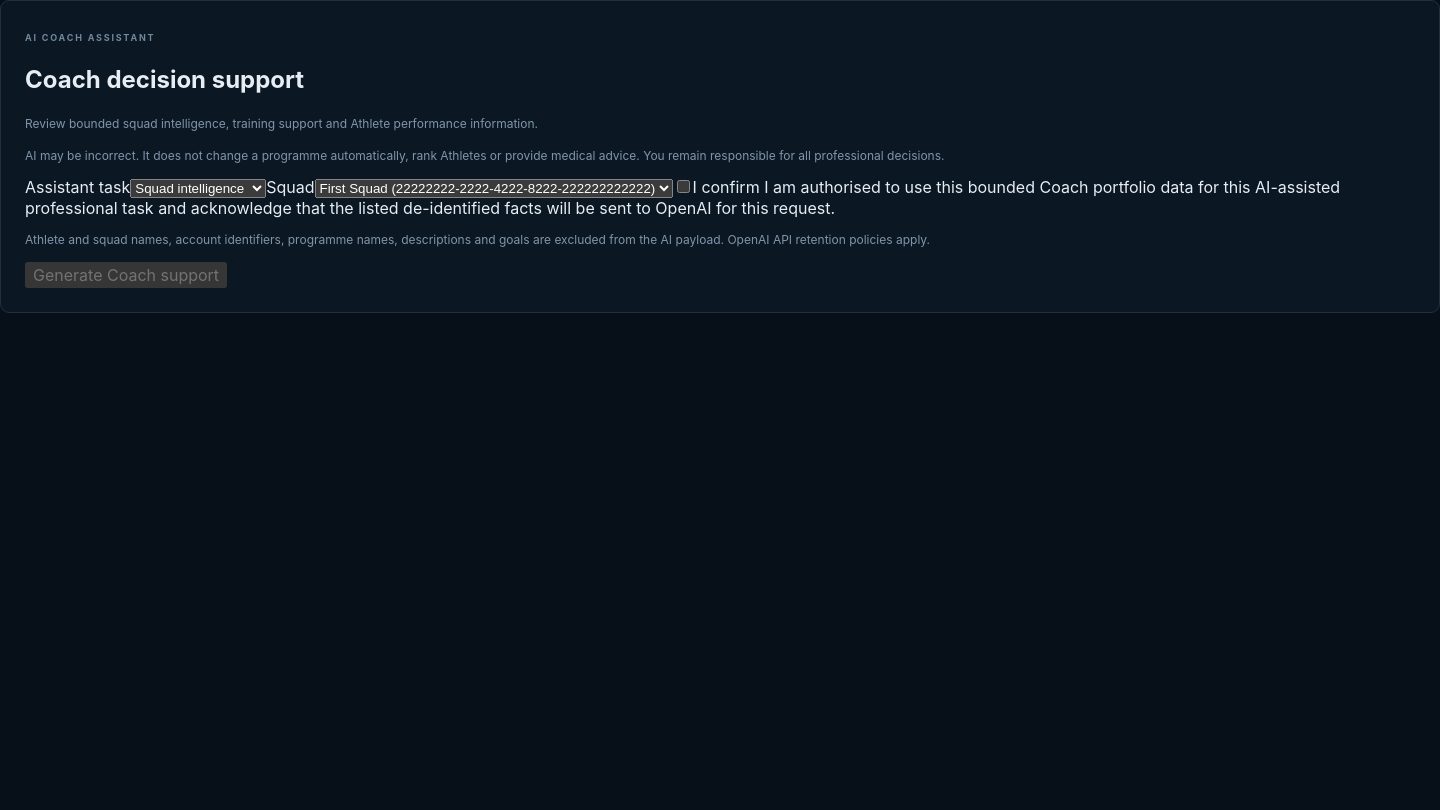
Test: CoachAiAssistant › generates squad intelligence and displays explanation and limitations
Click the checkbox: (683,187) [677, 180, 690, 193]
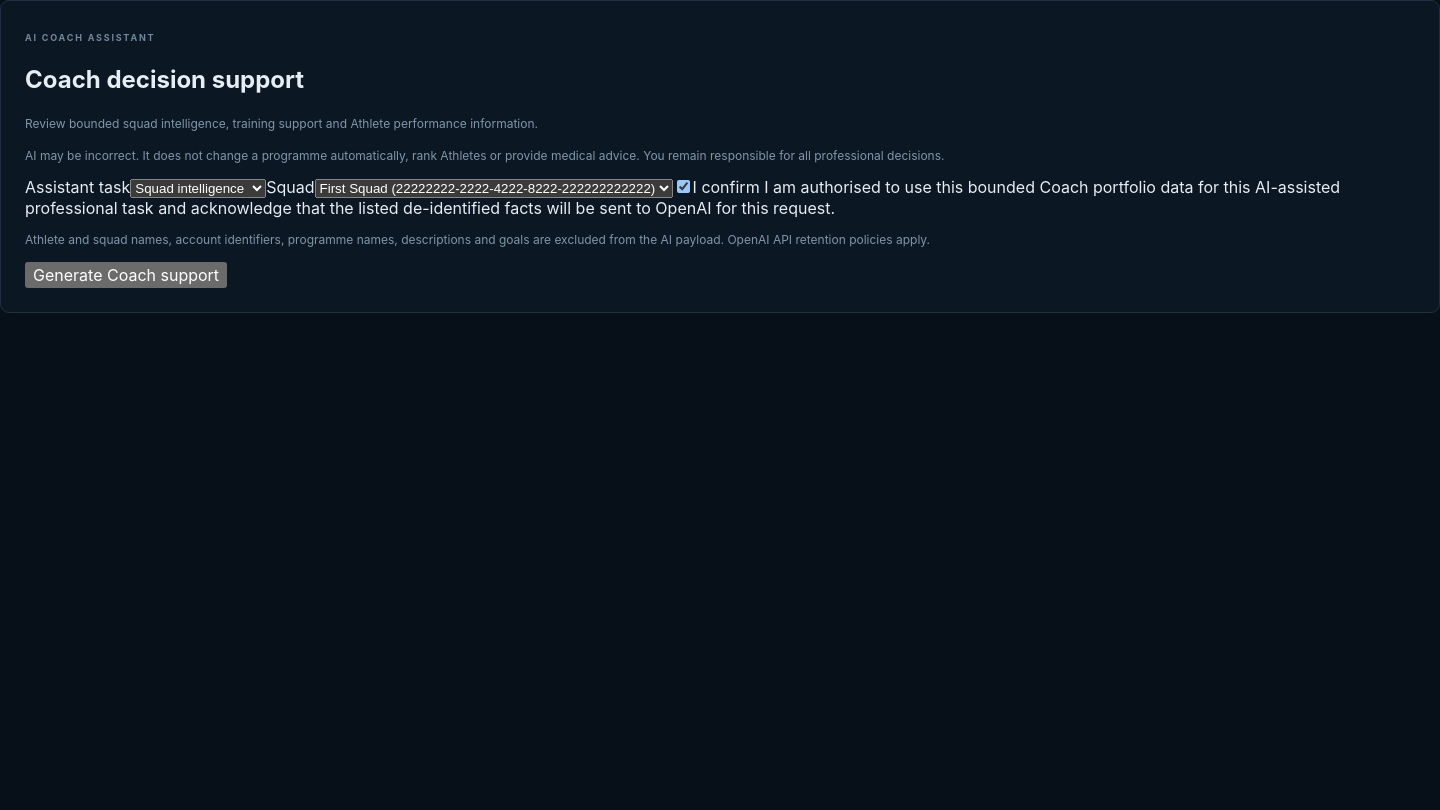
Click the button "Generate Coach support": (126,275) [25, 262, 227, 288]
(page scrolled)
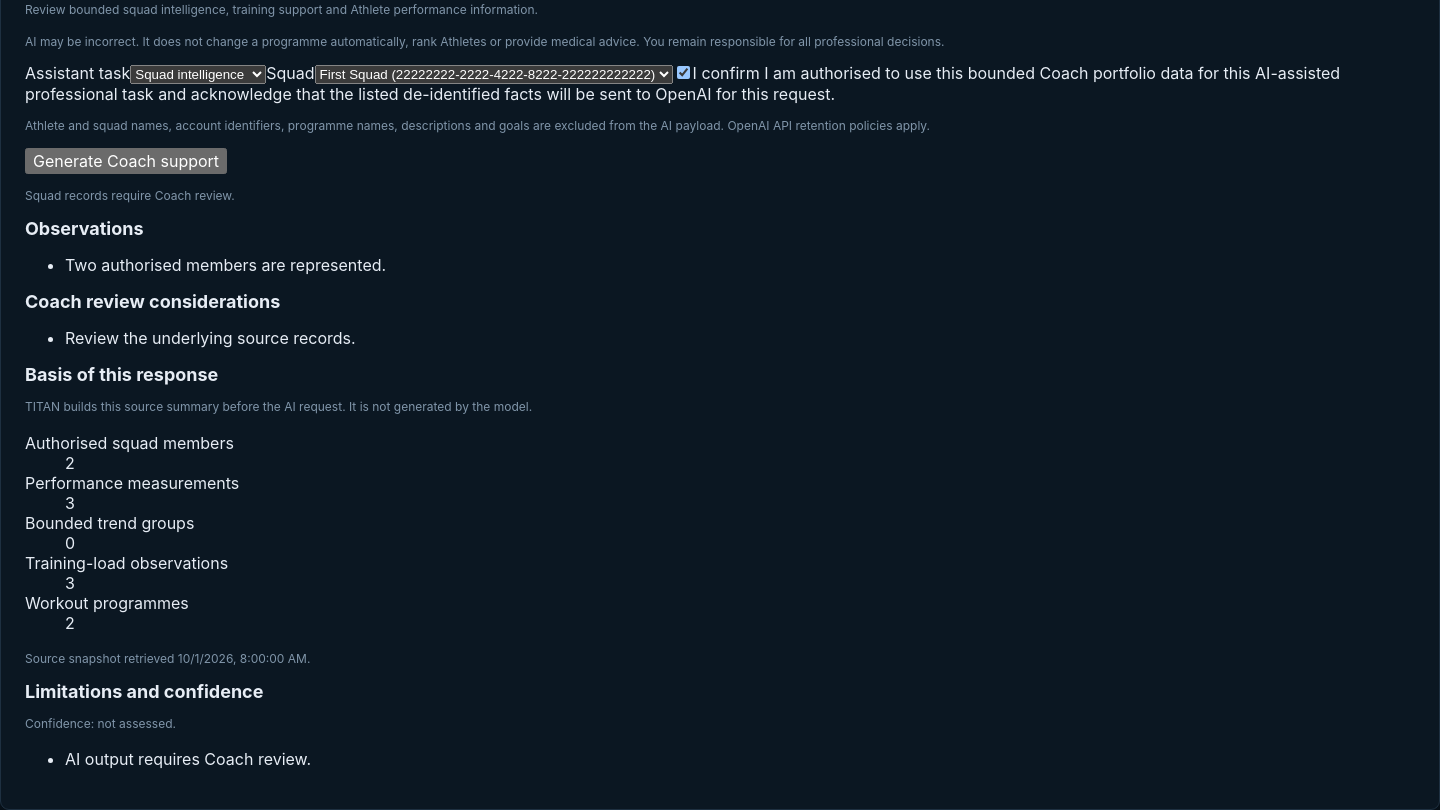
Expected: the text "Squad records require Coach review." is shown, [25, 188, 235, 203]
Expected: the element named "Coach AI source explanation" is shown, [25, 364, 532, 666]
Expected: the text "Confidence: not assessed." is shown, [25, 716, 176, 731]
